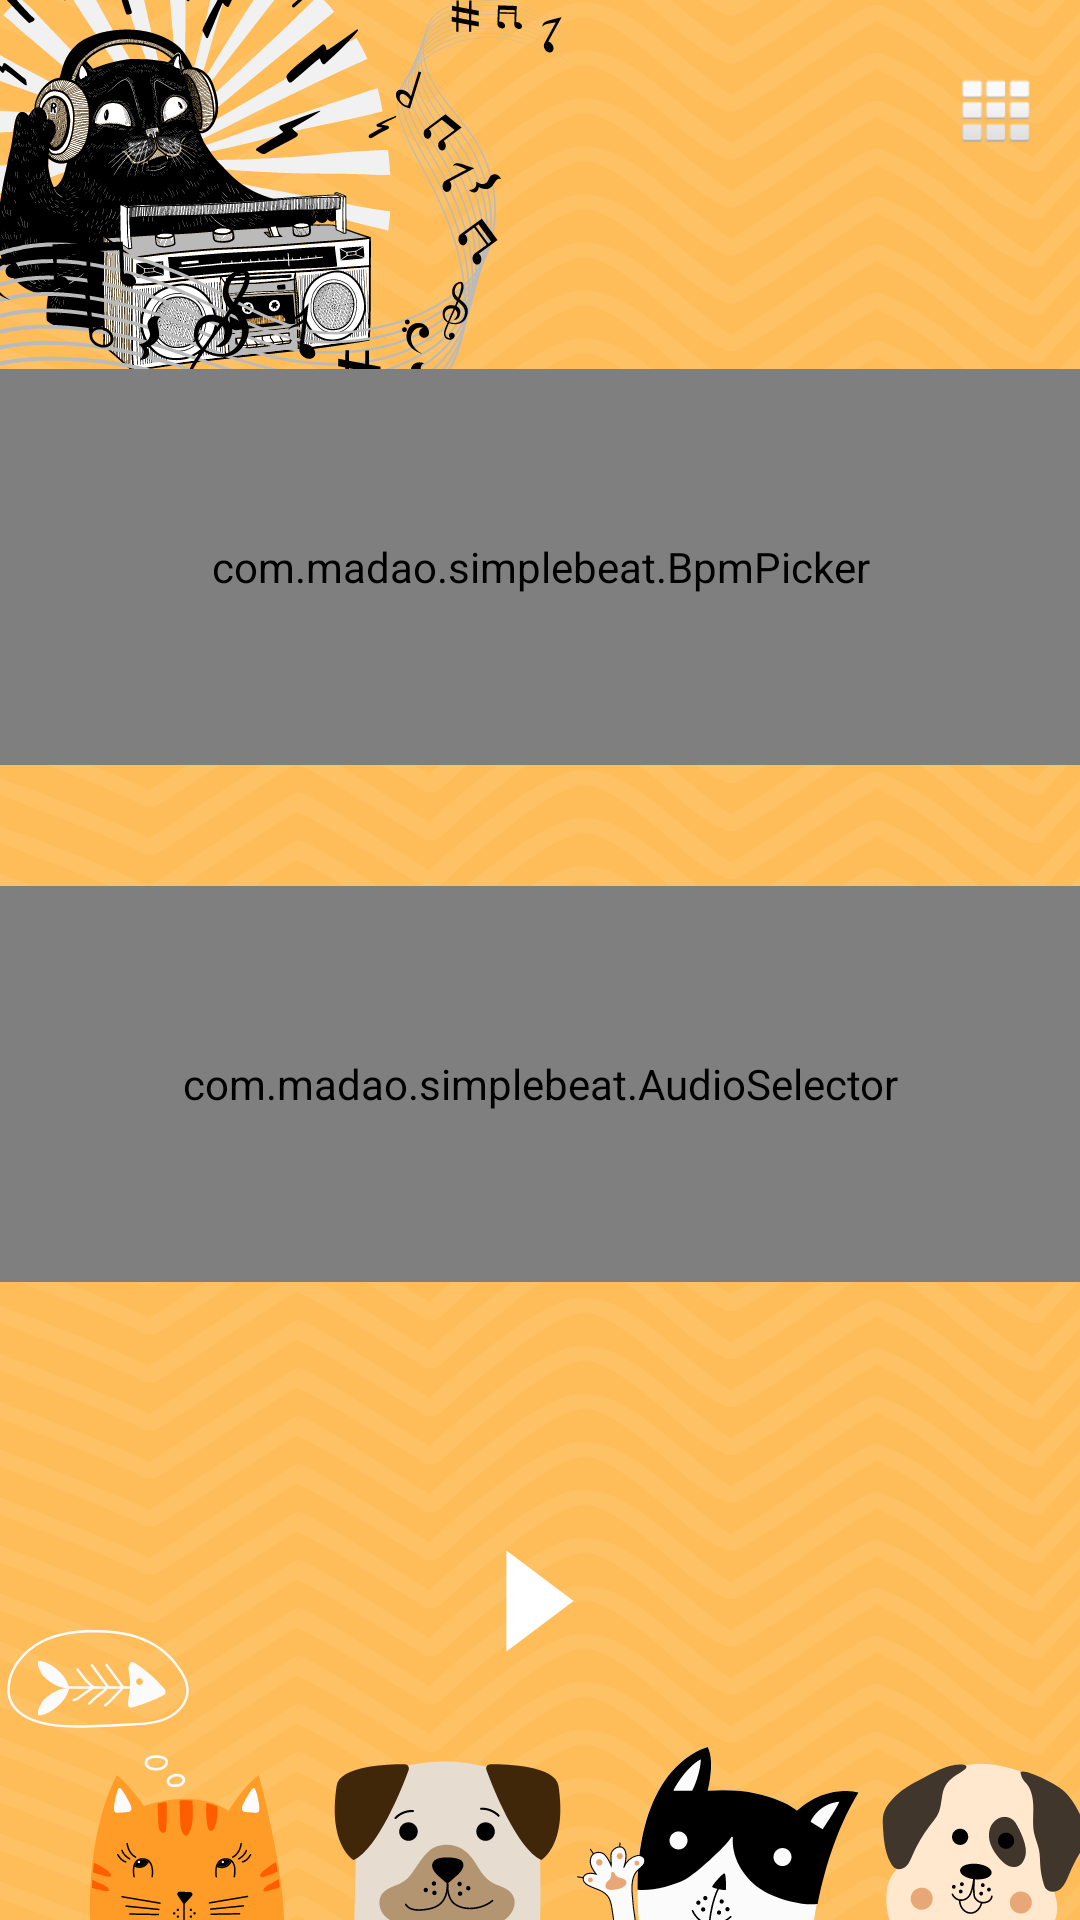

Named icons in this screenshot (1080*1920) and their bounding boxes, [x1,y1,x2,y2]:
dialer: [961,80,1030,142]
start: [506,1550,574,1652]
